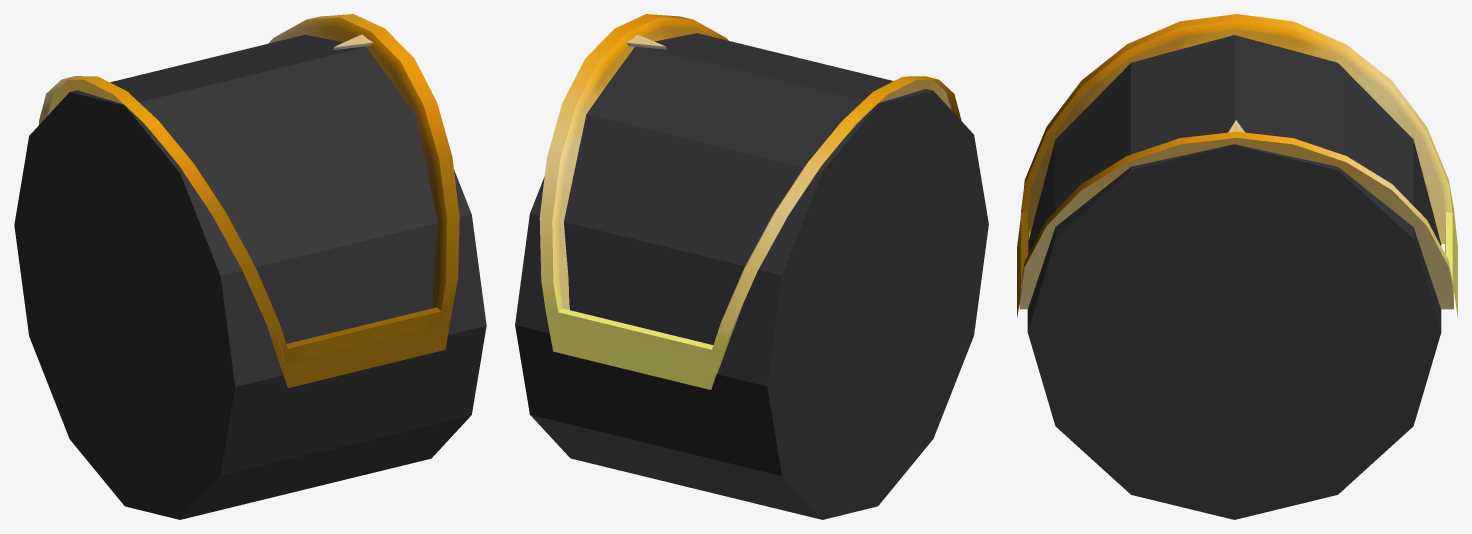
The model's file is Spinner.fbx.
3 renders of one model, left to right at view 1: azimuth 30°, elevation 25°; view 2: azimuth 150°, elevation 25°; view 3: azimuth 270°, elevation 25°, orthographic. The views are drawn at different scales.
Visible parts, largest first — view 1: wheel_12_face, wheel_3, base_alpha, base1; view 2: wheel_12_face, wheel_3, base_alpha, base1; view 3: wheel_3, wheel_12_face, base1, base_alpha.
Part boxes in pixels (x1,y1,x2,y2): wheel_12_face: (70,34,486,519); wheel_3: (14,92,235,519); base_alpha: (39,14,459,387); base1: (47,17,451,362); wheel_12_face: (515,33,932,519); wheel_3: (767,91,988,519); base_alpha: (539,14,961,389); base1: (552,17,951,373); wheel_3: (1027,145,1441,519); wheel_12_face: (1027,35,1441,331); base1: (1019,18,1453,309); base_alpha: (1017,14,1457,317).
Bounding box in the file's own units: 3.78 × 5.5 × 5.68.
Materials: 2 (2 with a texture image).
